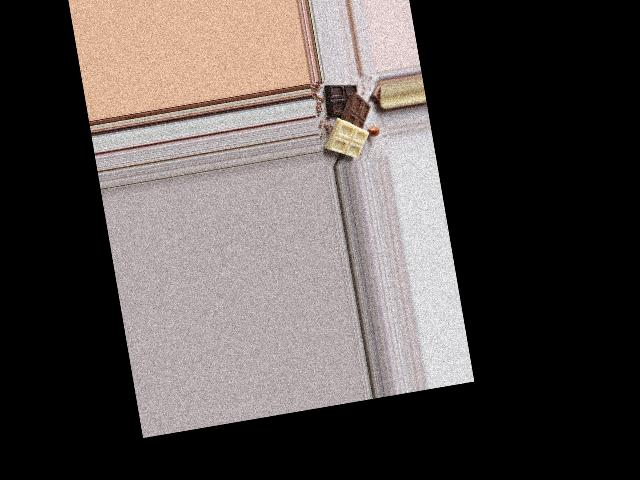chocolate: (318, 75, 378, 161)
